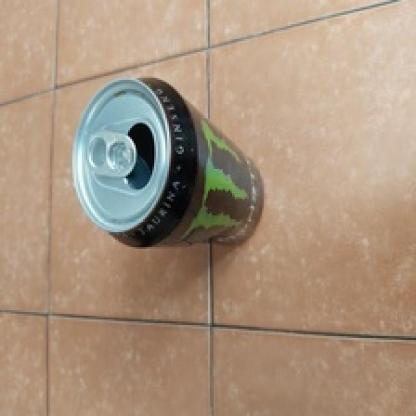Can: (29, 52, 286, 307)
